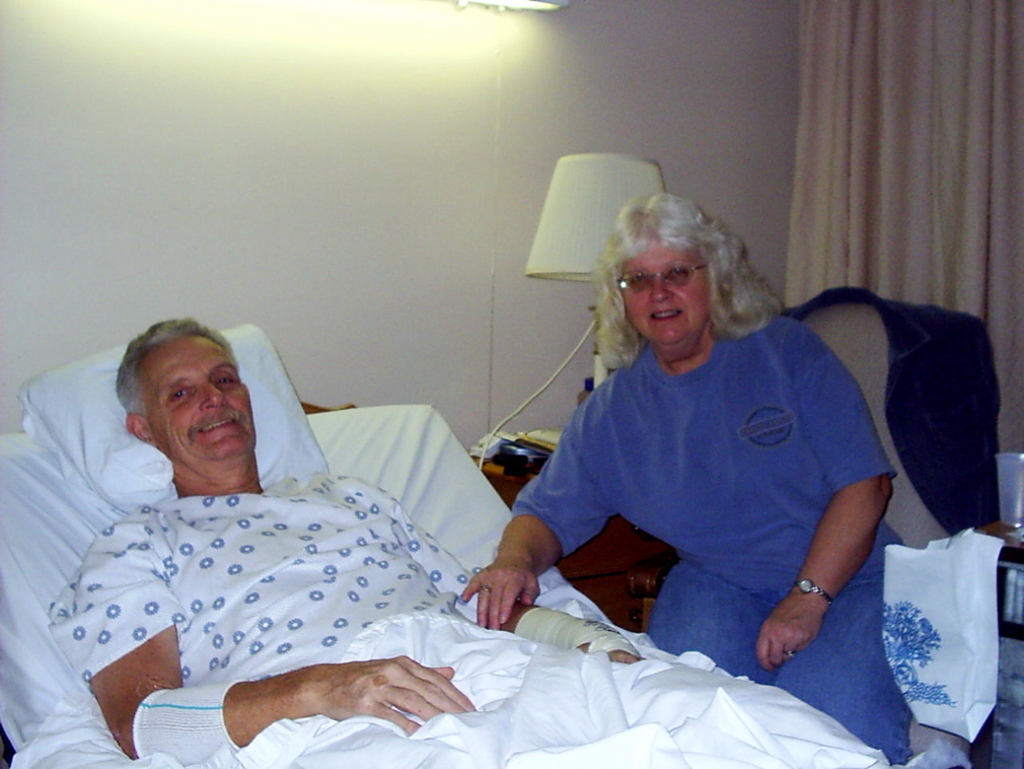Person: (458, 192, 915, 764)
